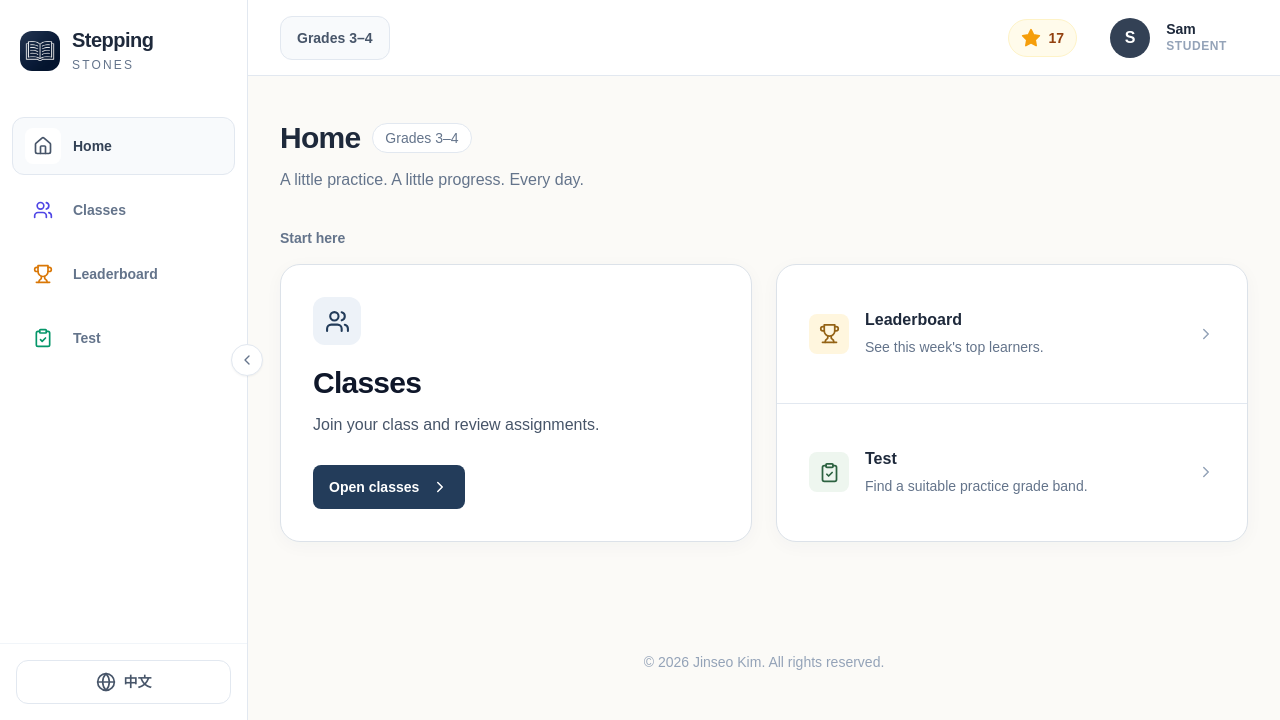
Scenario: Home and sidebar hide standalone practice but retain classes and other destinations
This screenshot has width=1280, height=720.
Check: the heading "Home Grades 3–4" is shown, box [280, 121, 472, 154]
Click the button "Classes" at (124, 210), box [12, 181, 235, 239]
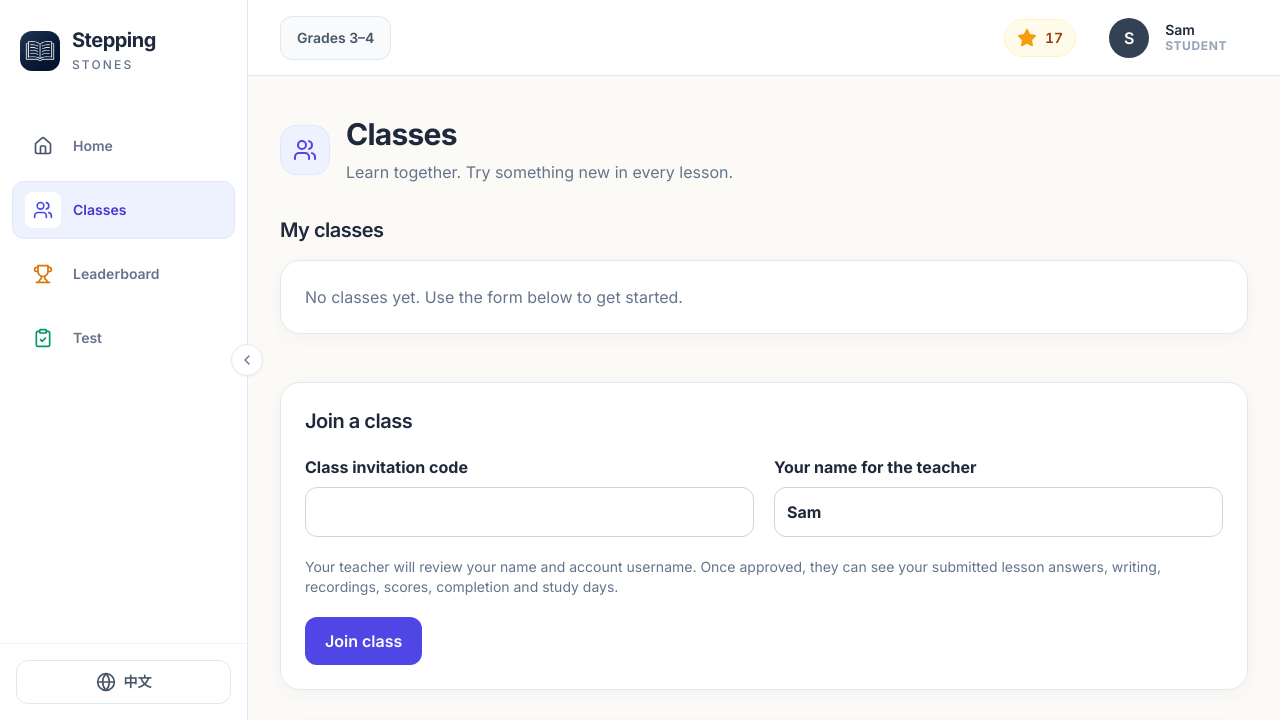
Check: the heading "Classes" is shown, box [346, 116, 457, 152]
